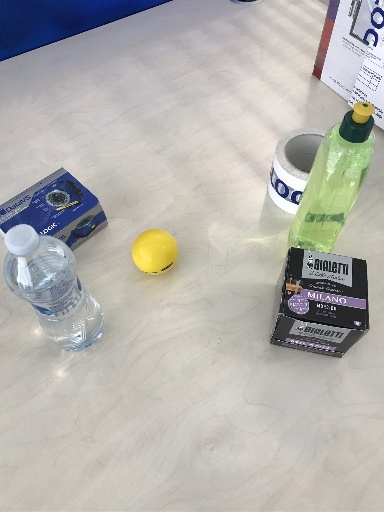Acqua: (3, 223, 105, 353)
Box: (1, 167, 107, 260)
Caffe: (270, 248, 370, 359)
Nastro: (269, 129, 328, 215)
Palla: (132, 228, 179, 276)
Sapone: (298, 101, 373, 248)
